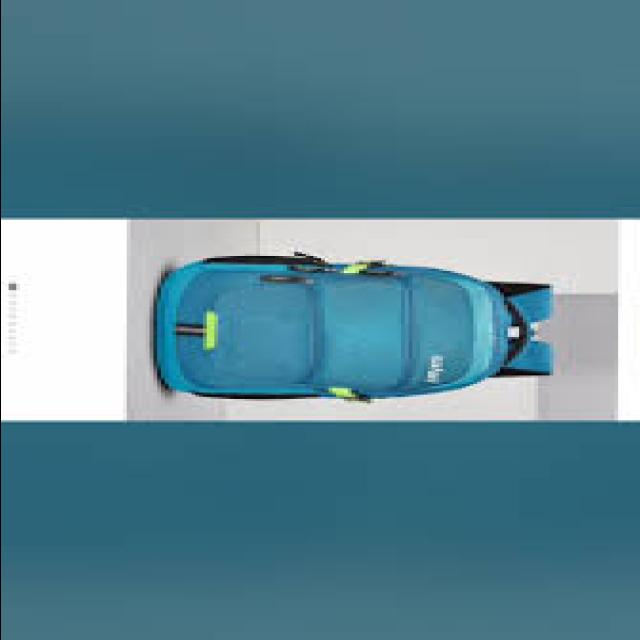backpack: (157, 253, 557, 405)
